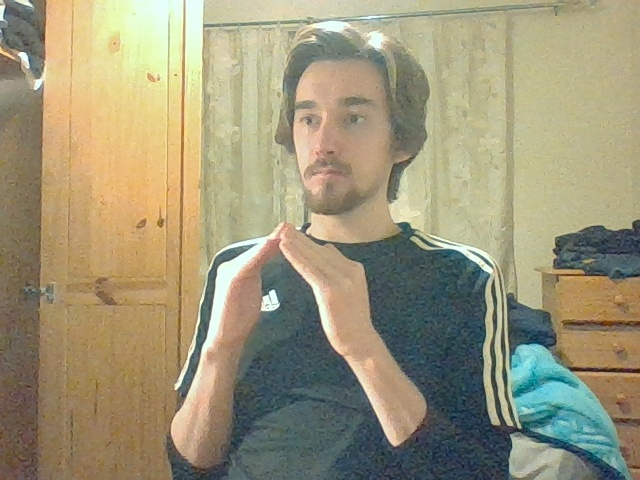home: (216, 222, 367, 322)
